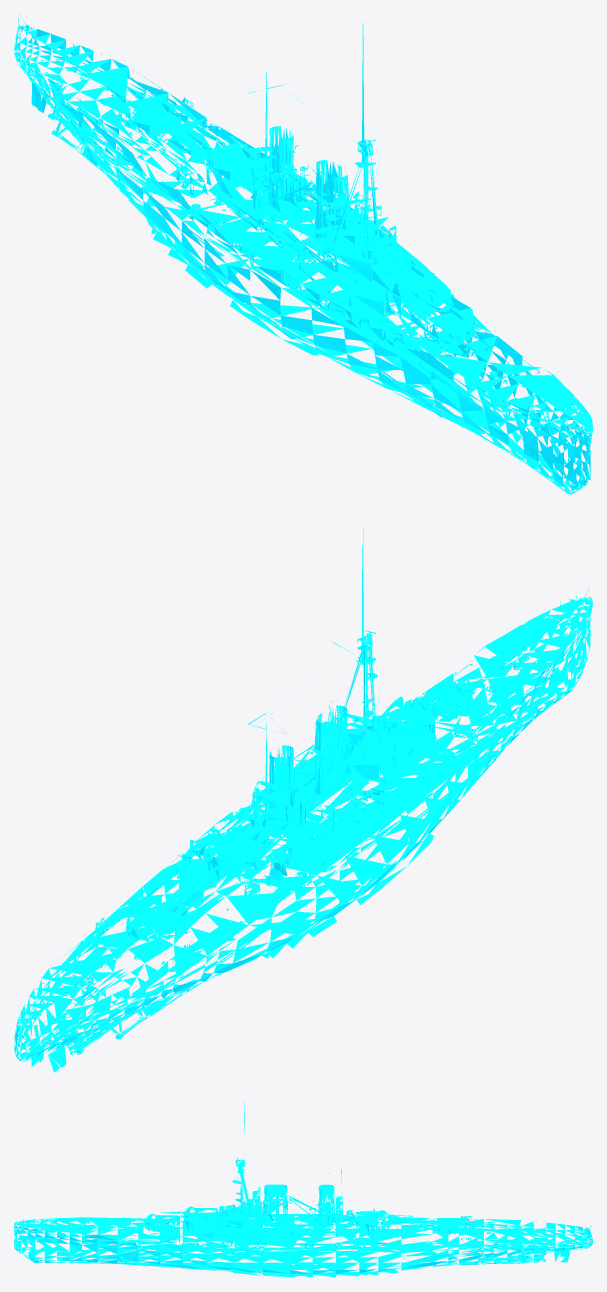
The model's file is Mackensen.glb.
3 views of the same model, one above another, from view 1: azimuth 30°, elevation 25°; view 2: azimuth 150°, elevation 25°; view 3: azimuth 270°, elevation 25° (orthographic). The views are drawn at different scales.
Bounding box in the file's own units: 2.03 × 4.56 × 14.86.
